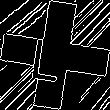L_N: (36, 27, 74, 83)
